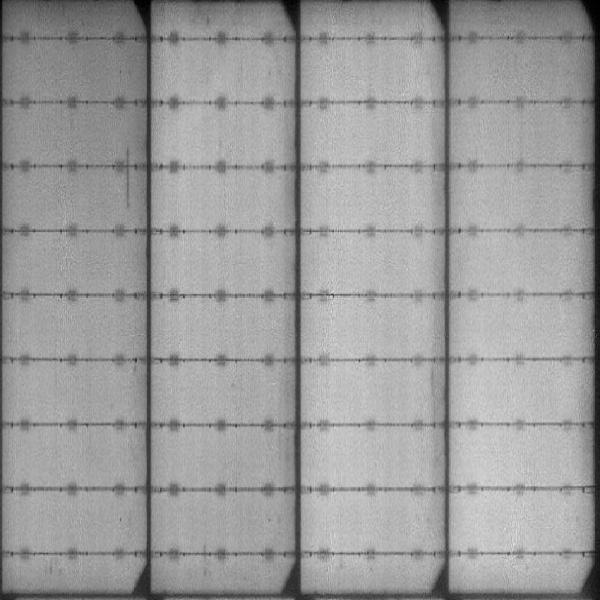scratch: (123, 148, 133, 214)
